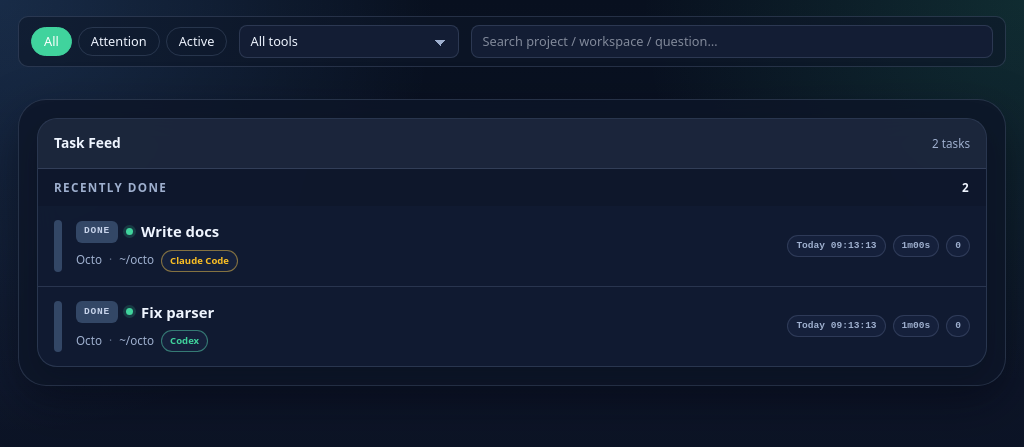
Test case: MonitorView task feed › filters the task feed by exact tool
Expected: the text "Fix parser" is shown, [141, 301, 214, 323]
Expected: the text "Write docs" is shown, [141, 220, 219, 243]
Select "Claude Code" in the dropdown named "Tool": coordinates (350, 42) [240, 25, 460, 58]
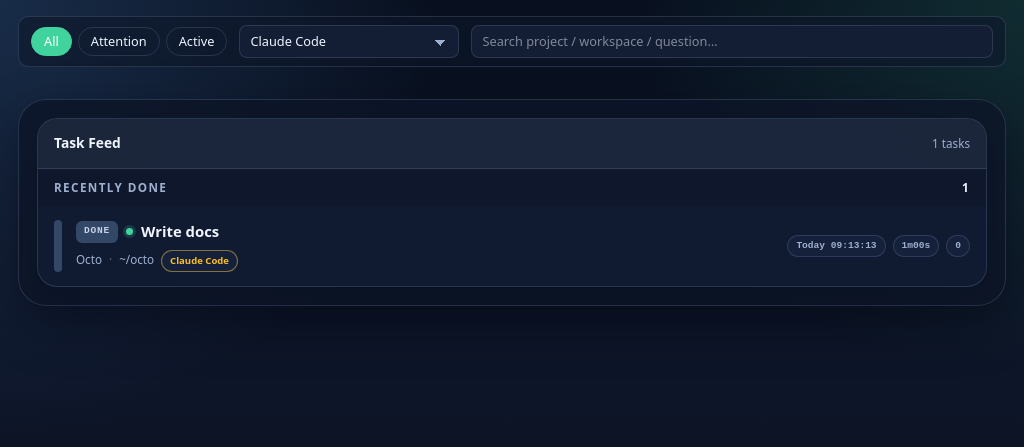
Expected: the text "Write docs" is shown, [141, 220, 219, 243]
Expected: the button "Fix parser" is gone
